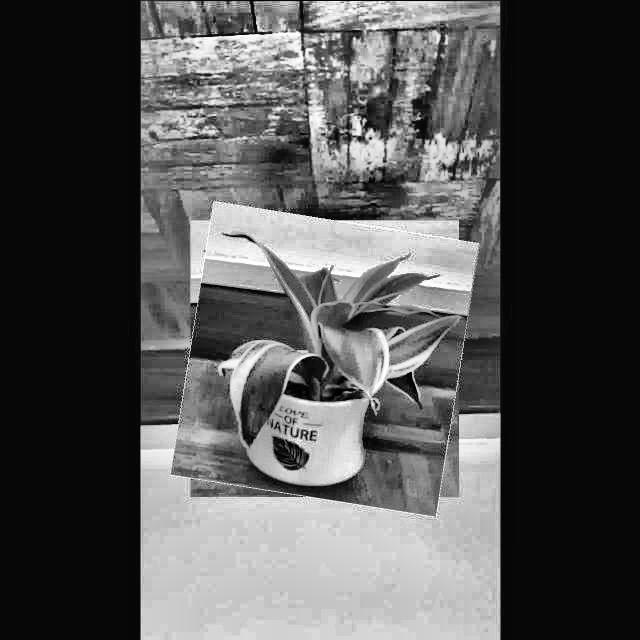plants: (180, 210, 469, 507)
